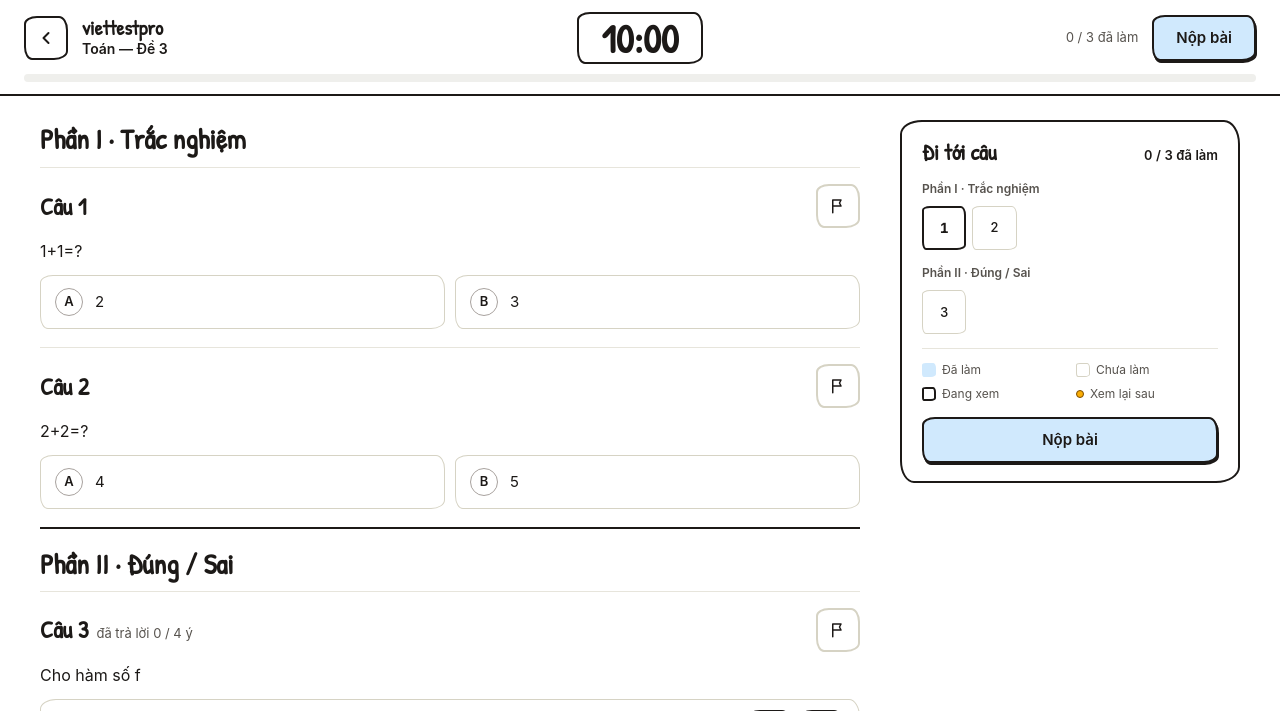
answers › picking an option saves its value at once; status shows saved
The image size is (1280, 711).
Expected: the text "1+1=?" is shown, [40,241,82,261]
Click the radio button labelled "A 2": x=69, y=302 [40,275,445,329]
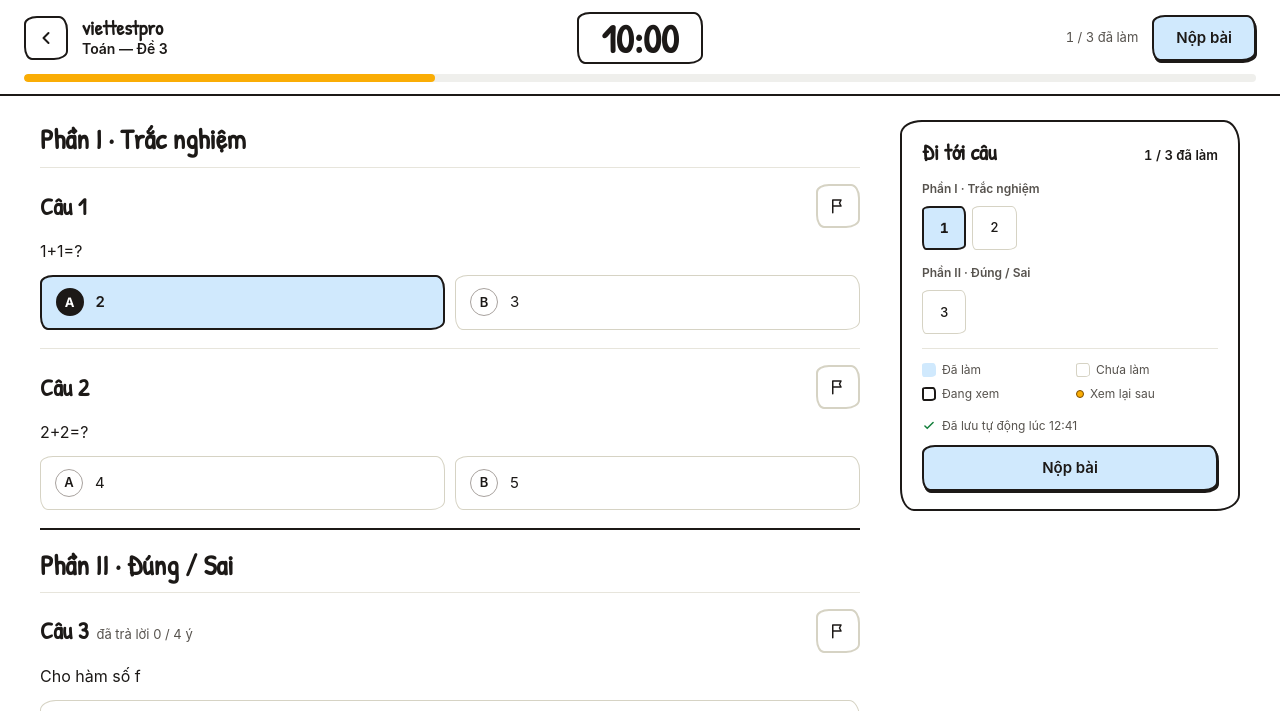
Expected: the text "1 / 3 đã làm" in the row of "10:00" is shown, [1066,28,1138,48]
